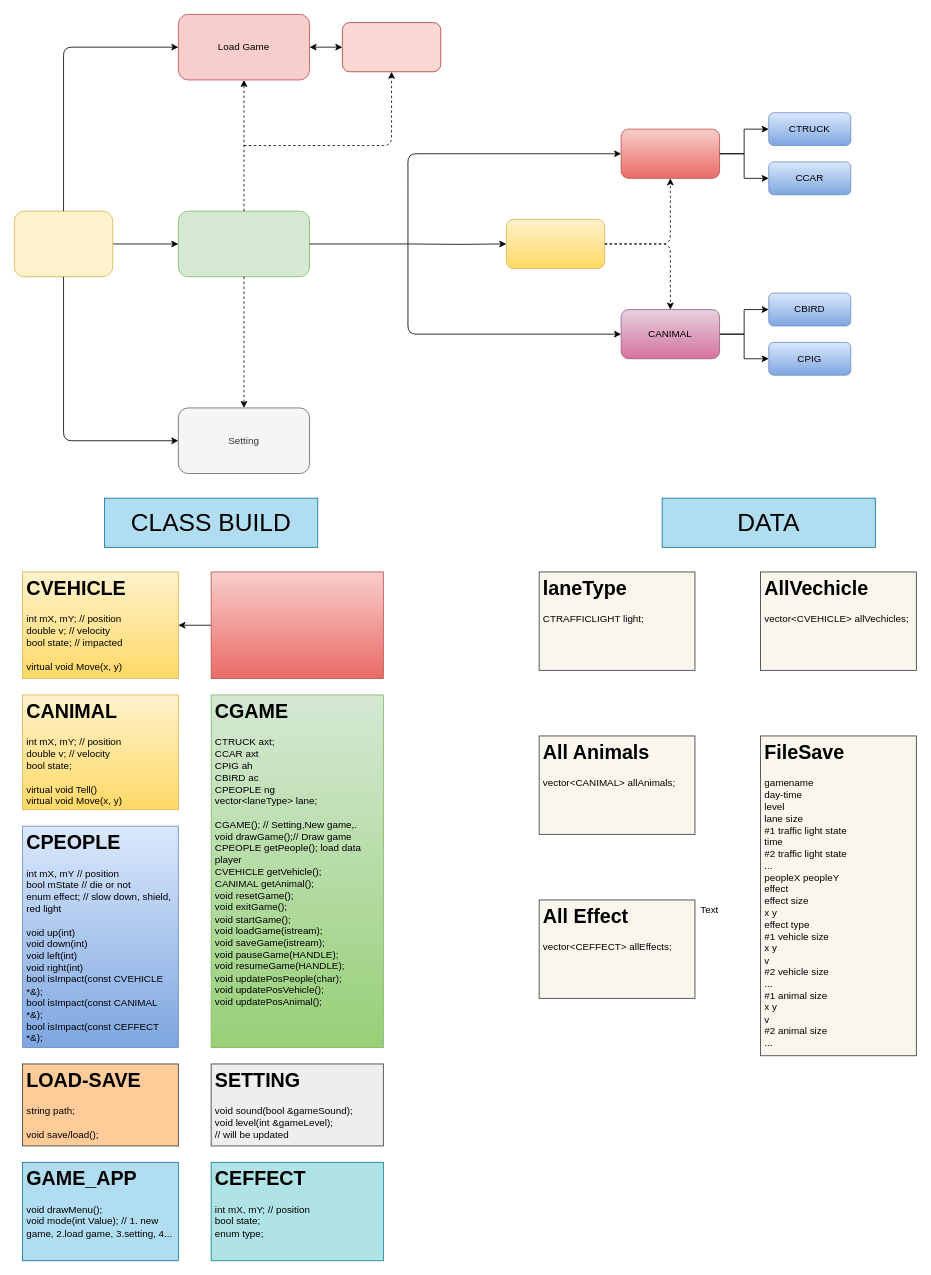
This 931x1275 diagram has some shape labels left out. The box of each missing label's shape, as (x1, y1, x2, y2) in pixels:
CGAME(NEW GAME): (178, 210, 310, 277)
CPEOPLE: (506, 219, 605, 269)
CTRAFFICLIGHT int state // red, yellow, green, off int time:: (210, 571, 383, 679)
CVEHICLE: (620, 128, 720, 178)
GAME_APP: (14, 210, 113, 277)
Save Game: (342, 22, 441, 72)
